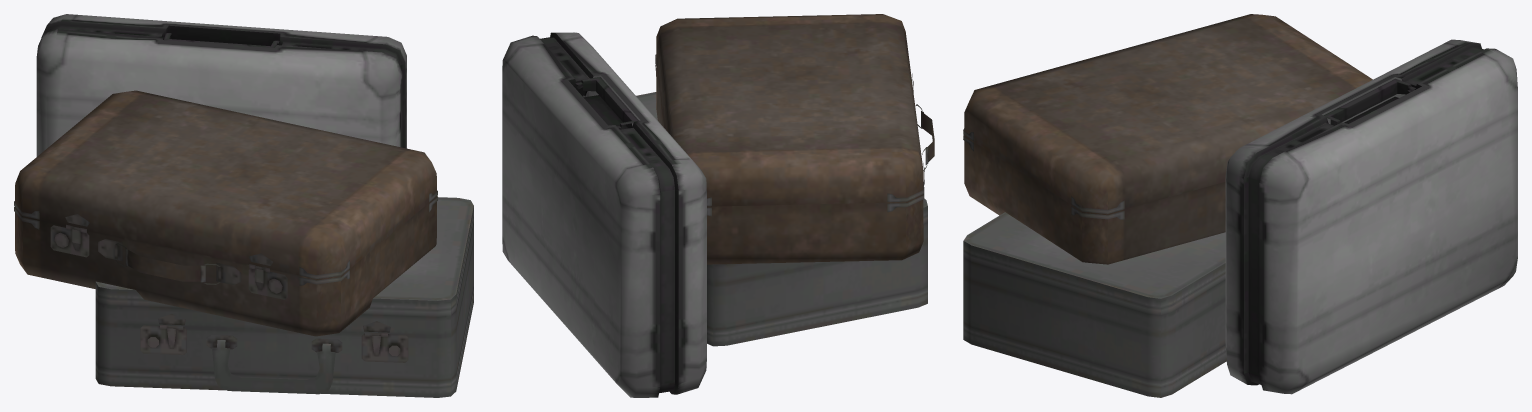
Rendered from ItemSpot.fbx.
3 renders of one model, left to right at view 1: azimuth 30°, elevation 25°; view 2: azimuth 150°, elevation 25°; view 3: azimuth 270°, elevation 25°, orthographic. The views are drawn at different scales.
Parts seen in each view (by area): view 1: ItemBox_Suitcase_01, ItemBox_Suitcase_02, ItemBox_Suitcase_04; view 2: ItemBox_Suitcase_01, ItemBox_Suitcase_04, ItemBox_Suitcase_02; view 3: ItemBox_Suitcase_04, ItemBox_Suitcase_01, ItemBox_Suitcase_02.
Boxes of the visible parts, <box> form: ItemBox_Suitcase_01: <box>14,90,437,336</box>; ItemBox_Suitcase_02: <box>95,197,473,397</box>; ItemBox_Suitcase_04: <box>36,14,406,156</box>; ItemBox_Suitcase_01: <box>655,14,934,264</box>; ItemBox_Suitcase_04: <box>502,32,706,397</box>; ItemBox_Suitcase_02: <box>636,92,927,346</box>; ItemBox_Suitcase_04: <box>1225,39,1517,394</box>; ItemBox_Suitcase_01: <box>963,14,1372,264</box>; ItemBox_Suitcase_02: <box>963,212,1226,397</box>.
Bounding box in the file's own units: 1.26 × 0.6802 × 1.47.
Materials: 1 (1 with a texture image).
